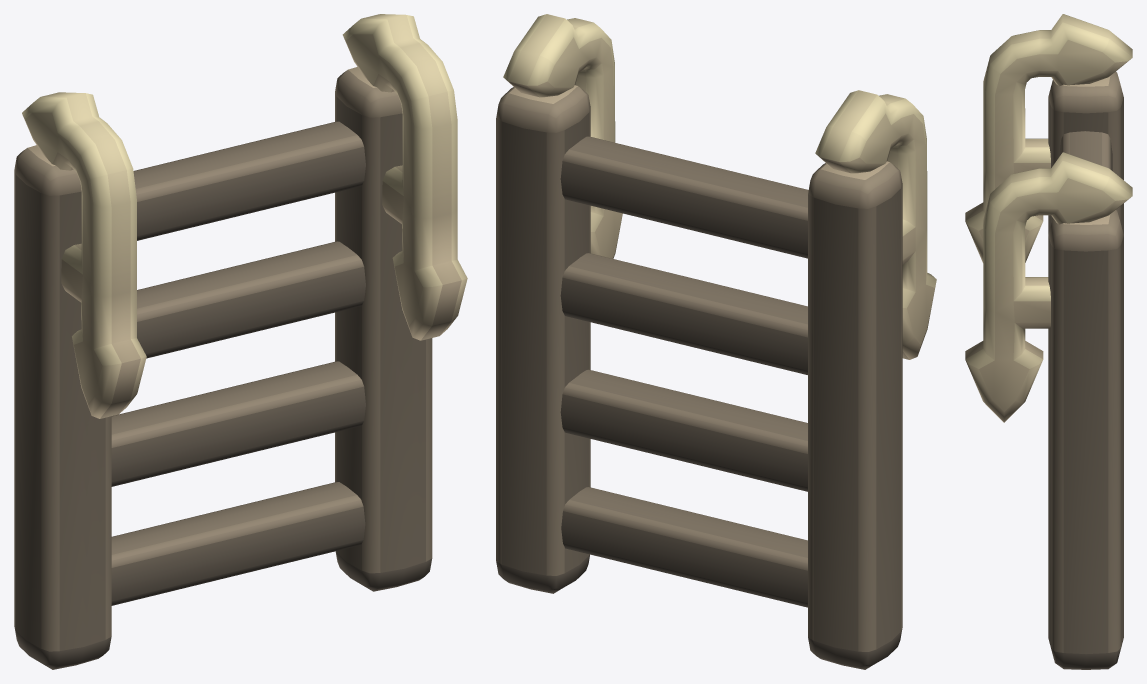
File: DryWood_Ladder_Top.fbx
3 views of the same model, side by side, from view 1: azimuth 30°, elevation 25°; view 2: azimuth 150°, elevation 25°; view 3: azimuth 270°, elevation 25° (orthographic). The views are drawn at different scales.
Parts seen in each view (by area): view 1: DryWood_Ladder_Top_LOD0; view 2: DryWood_Ladder_Top_LOD0; view 3: DryWood_Ladder_Top_LOD0.
Part boxes in pixels (bbox=[...]): DryWood_Ladder_Top_LOD0: bbox=[14, 14, 467, 669]; DryWood_Ladder_Top_LOD0: bbox=[496, 14, 936, 669]; DryWood_Ladder_Top_LOD0: bbox=[965, 14, 1132, 669].
Size of what is drawn, in the model's own units: 0.8613 by 1.19 by 0.3586.
